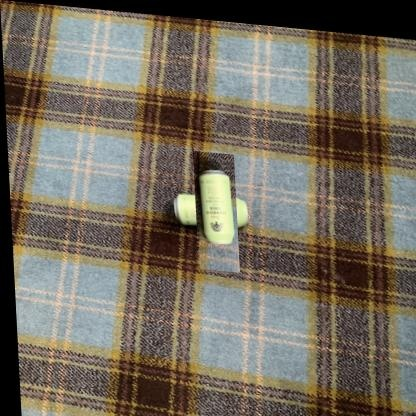trash: (199, 170, 234, 243)
